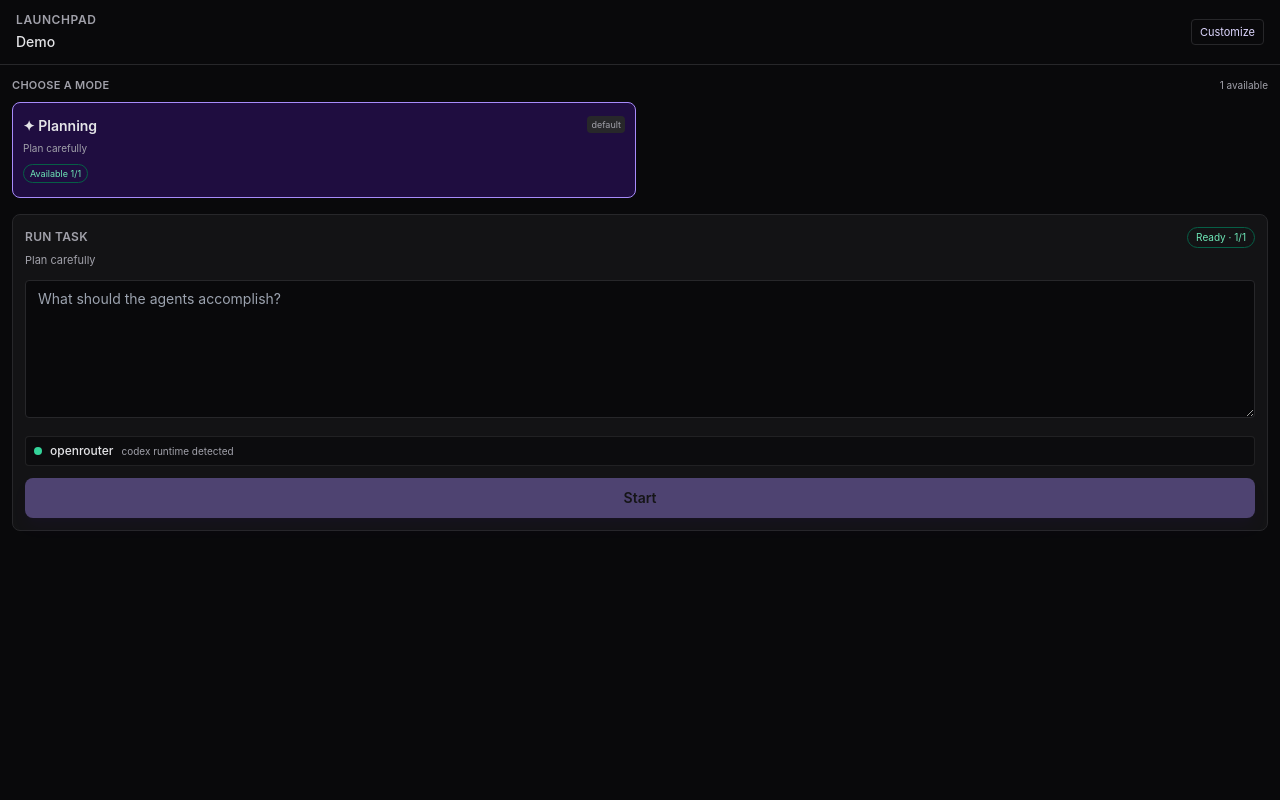
Test case: WorkflowPanel › requires an OpenRouter model choice before version and stores the exact selected version slug
The image size is (1280, 800).
Step 1. Click the button "Customize" → [1227, 32], box [1191,19,1264,45]
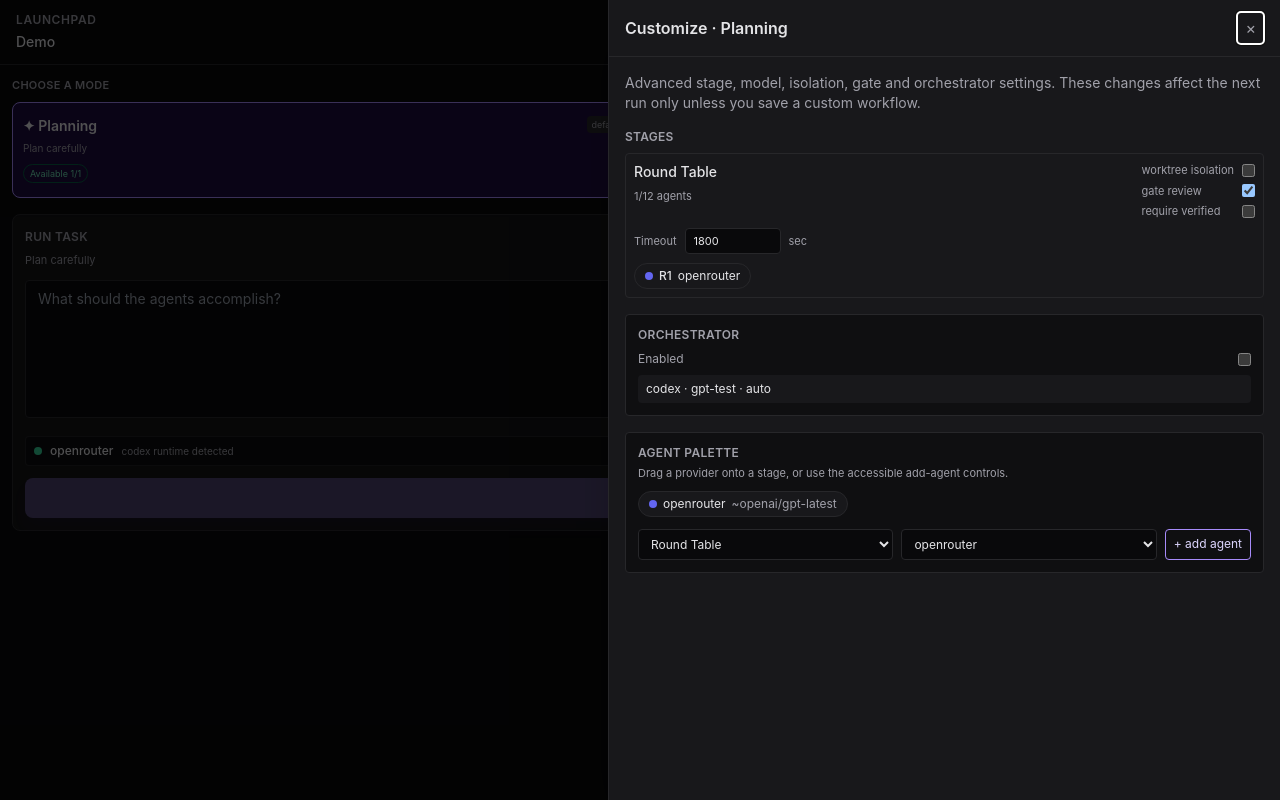
Step 2. Click the button "R1 openrouter" → [693, 276], box [634,262,751,289]
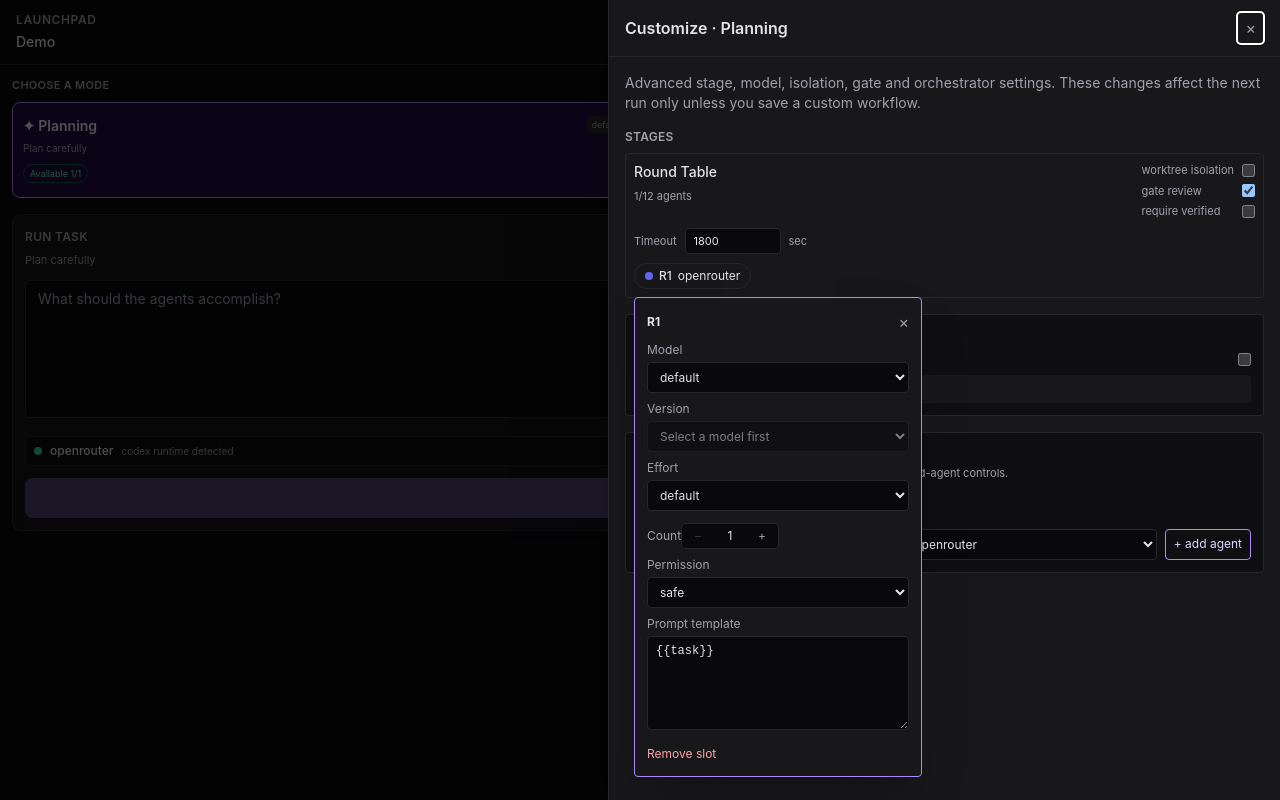
Check: the dropdown labelled "Model" shows "default"
Check: the dropdown labelled "Version" is disabled, box [647,421,909,452]
Step 3. Select "OpenAI: GPT-5.6 Sol" in the dropdown labelled "Model" → [778, 378], box [647,362,909,393]
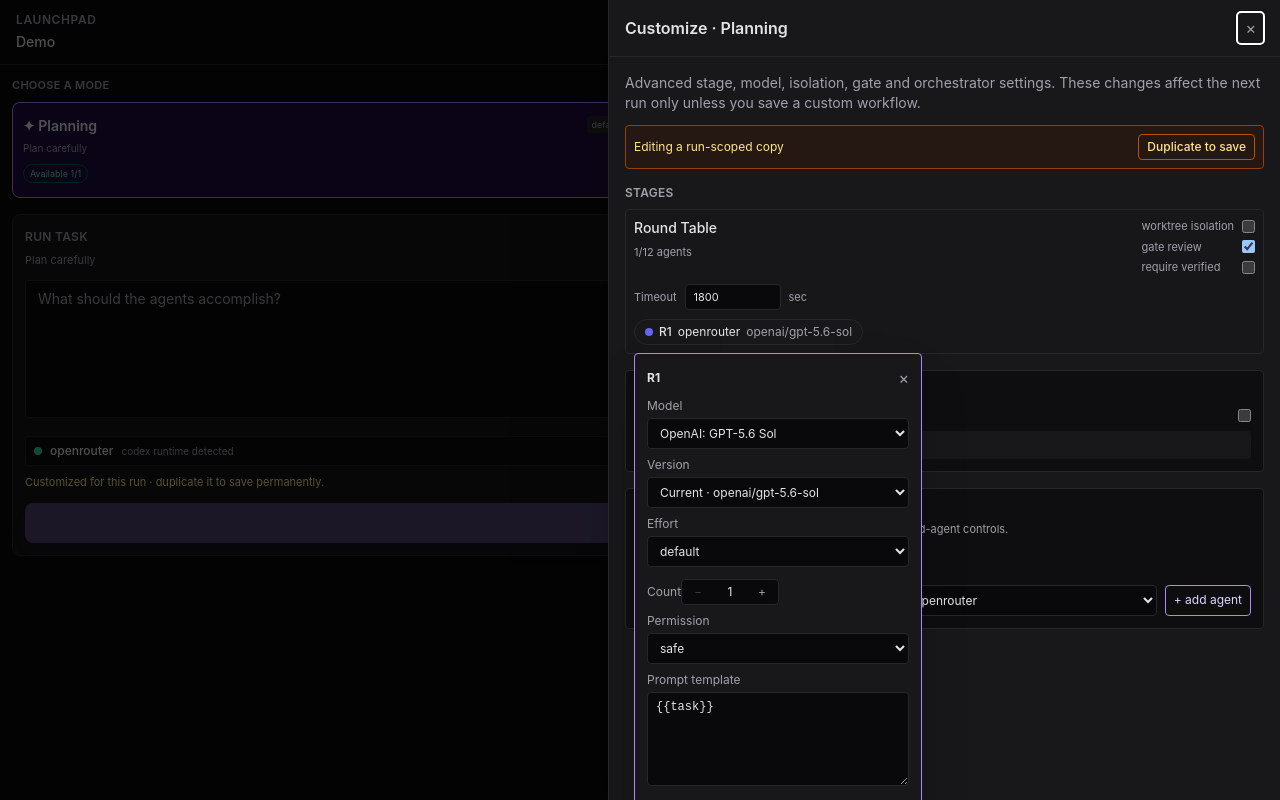
Check: the text "openai/gpt-5.6-sol" is shown, box [746,324,852,340]
Check: the dropdown labelled "Version" is enabled
Check: the dropdown labelled "Version" shows "Current · openai/gpt-5.6-sol"
Step 4. Select "Pinned · GPT-5.6 Sol" in the dropdown labelled "Version" → [778, 492], box [647,477,909,508]
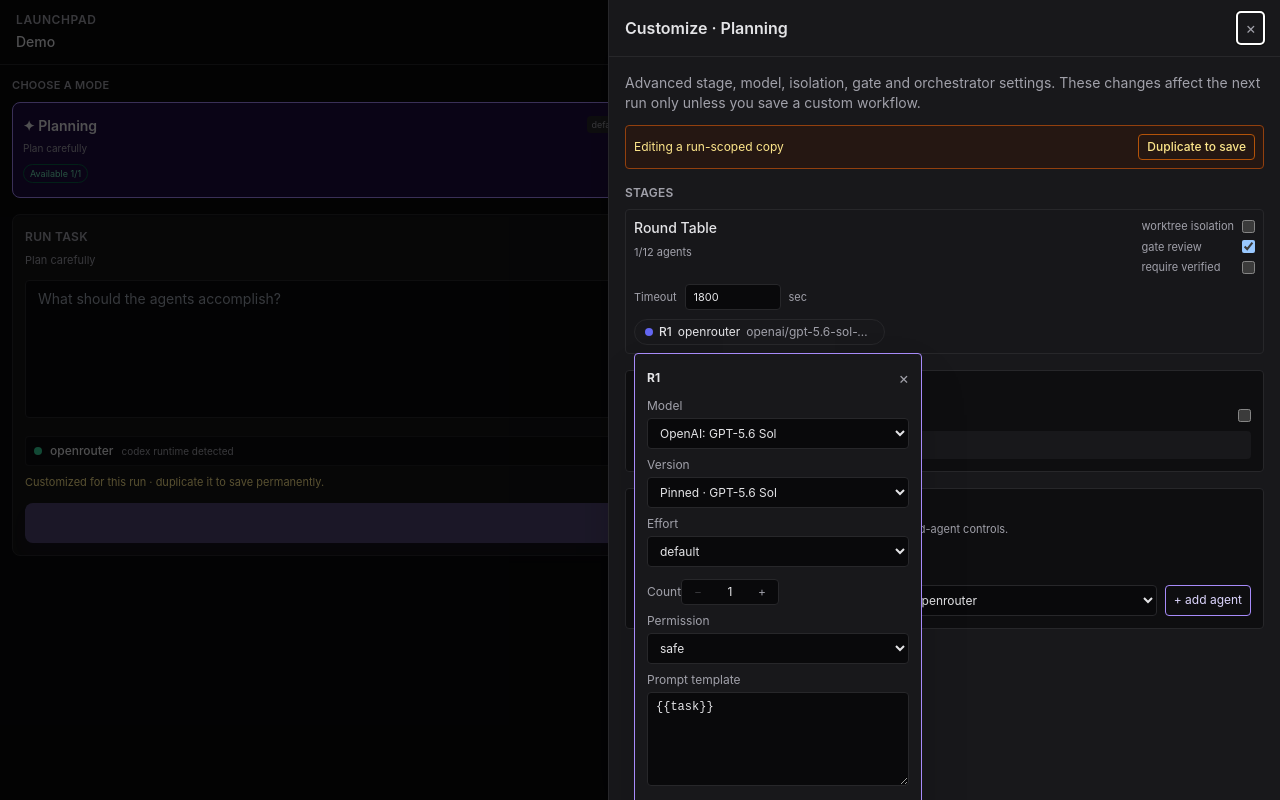
Check: the text "openai/gpt-5.6-sol-20260709" is shown, box [746,324,874,340]
